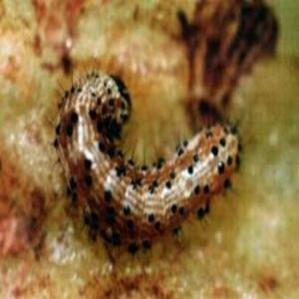Cotton bollworm: (35, 54, 257, 253)
